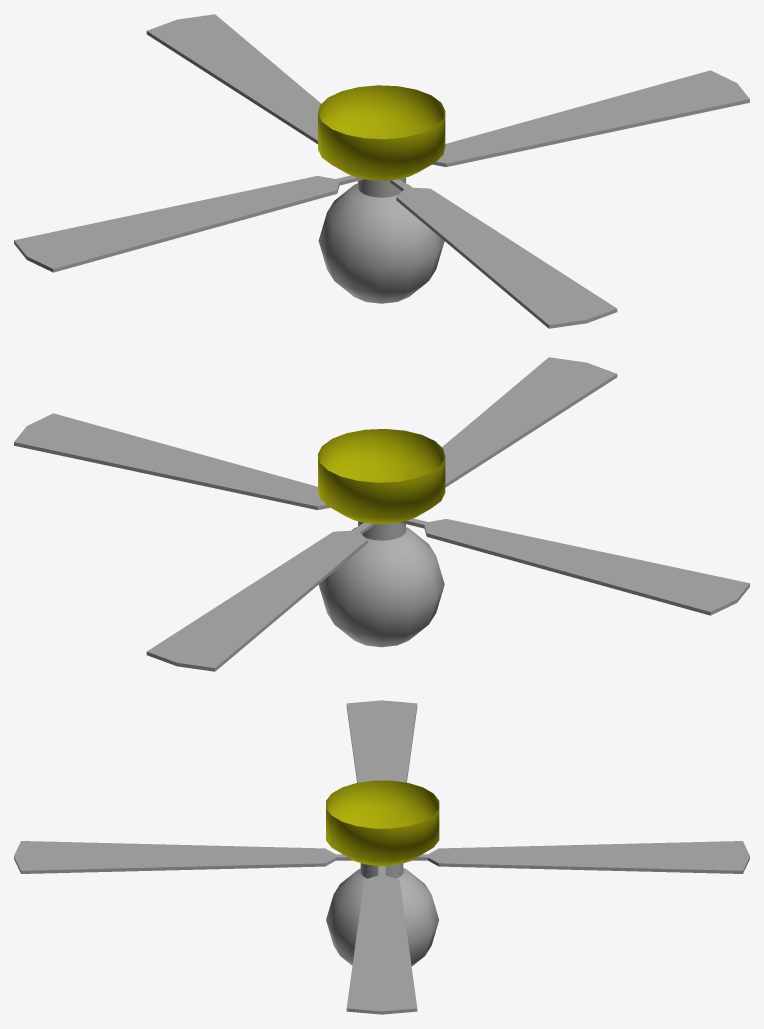
Rendered from CeilingFan.fbx.
3 renders of one model, top to bottom at view 1: azimuth 30°, elevation 25°; view 2: azimuth 150°, elevation 25°; view 3: azimuth 270°, elevation 25°, orthographic. The views are drawn at different scales.
Parts seen in each view (by area): view 1: shaft, base, globe; view 2: shaft, base, globe; view 3: shaft, base, globe.
Boxes of the visible parts, x1=… form: shaft: x1=14, y1=14, x2=749, y2=328; base: x1=318, y1=85, x2=445, y2=180; globe: x1=318, y1=183, x2=444, y2=303; shaft: x1=14, y1=357, x2=749, y2=671; base: x1=318, y1=429, x2=445, y2=524; globe: x1=319, y1=527, x2=444, y2=647; shaft: x1=14, y1=700, x2=749, y2=1014; base: x1=326, y1=780, x2=439, y2=865; globe: x1=326, y1=868, x2=438, y2=966.
Bounding box in the file's own units: 338 × 84.5 × 338.
